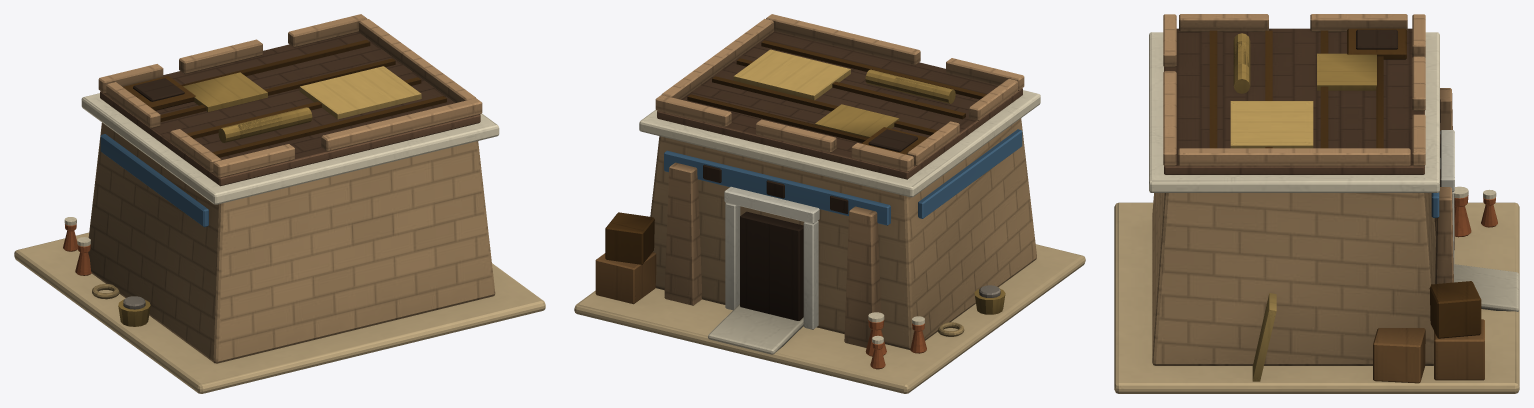
File: warehouse.glb
3 renders of one model, left to right at view 1: azimuth 30°, elevation 25°; view 2: azimuth 150°, elevation 25°; view 3: azimuth 270°, elevation 25°, orthographic. The views are drawn at different scales.
Parts seen in each view (by area): view 1: warehouse_mud_tan, warehouse_sand_spit, warehouse_mud_dark, warehouse_mud_terra, warehouse_stone_pale, warehouse_wood_dark, warehouse_thatch_dark, warehouse_thatch_mat, warehouse_nile_blue, warehouse_door_dark, warehouse_pottery; view 2: warehouse_mud_tan, warehouse_mud_terra, warehouse_sand_spit, warehouse_mud_dark, warehouse_stone_pale, warehouse_door_dark, warehouse_wood_dark, warehouse_nile_blue, warehouse_stone_white, warehouse_thatch_dark, warehouse_thatch_mat, warehouse_wood_mid (+1 smaller); view 3: warehouse_mud_tan, warehouse_sand_spit, warehouse_mud_dark, warehouse_mud_terra, warehouse_stone_pale, warehouse_wood_dark, warehouse_wood_mid, warehouse_thatch_mat, warehouse_thatch_dark, warehouse_stone_white, warehouse_pottery, warehouse_door_dark.
Part boxes in pixels (x1,y1,x2,y2): warehouse_mud_tan: (88, 122, 495, 363); warehouse_sand_spit: (14, 232, 545, 393); warehouse_mud_dark: (100, 32, 480, 186); warehouse_mud_terra: (98, 14, 482, 177); warehouse_stone_pale: (81, 93, 499, 204); warehouse_wood_dark: (123, 39, 446, 157); warehouse_thatch_dark: (118, 72, 312, 326); warehouse_thatch_mat: (299, 66, 421, 119); warehouse_nile_blue: (100, 134, 208, 227); warehouse_door_dark: (133, 78, 184, 101); warehouse_pottery: (63, 224, 91, 275); warehouse_mud_tan: (650, 118, 1036, 349); warehouse_mud_terra: (655, 14, 1024, 347); warehouse_sand_spit: (574, 244, 1085, 393); warehouse_mud_dark: (657, 31, 1022, 179); warehouse_stone_pale: (639, 90, 1040, 354); warehouse_door_dark: (703, 129, 917, 320); warehouse_wood_dark: (605, 40, 986, 264); warehouse_nile_blue: (664, 129, 1022, 225); warehouse_stone_white: (724, 186, 819, 329); warehouse_thatch_dark: (815, 69, 1005, 314); warehouse_thatch_mat: (733, 49, 850, 100); warehouse_wood_mid: (595, 252, 656, 304); warehouse_mud_tan: (1152, 193, 1435, 365); warehouse_sand_spit: (1114, 202, 1519, 393); warehouse_mud_dark: (1164, 28, 1424, 174); warehouse_mud_terra: (1163, 14, 1454, 283); warehouse_stone_pale: (1149, 32, 1519, 311); warehouse_wood_dark: (1209, 28, 1481, 338); warehouse_wood_mid: (1373, 319, 1484, 383); warehouse_thatch_mat: (1230, 101, 1313, 381); warehouse_thatch_dark: (1233, 33, 1376, 93); warehouse_stone_white: (1440, 130, 1454, 282); warehouse_pottery: (1454, 195, 1497, 237); warehouse_door_dark: (1356, 29, 1440, 186).
Bounding box in the file's own units: 2.9 × 1.63 × 2.7.
16 materials, 15 textured.
